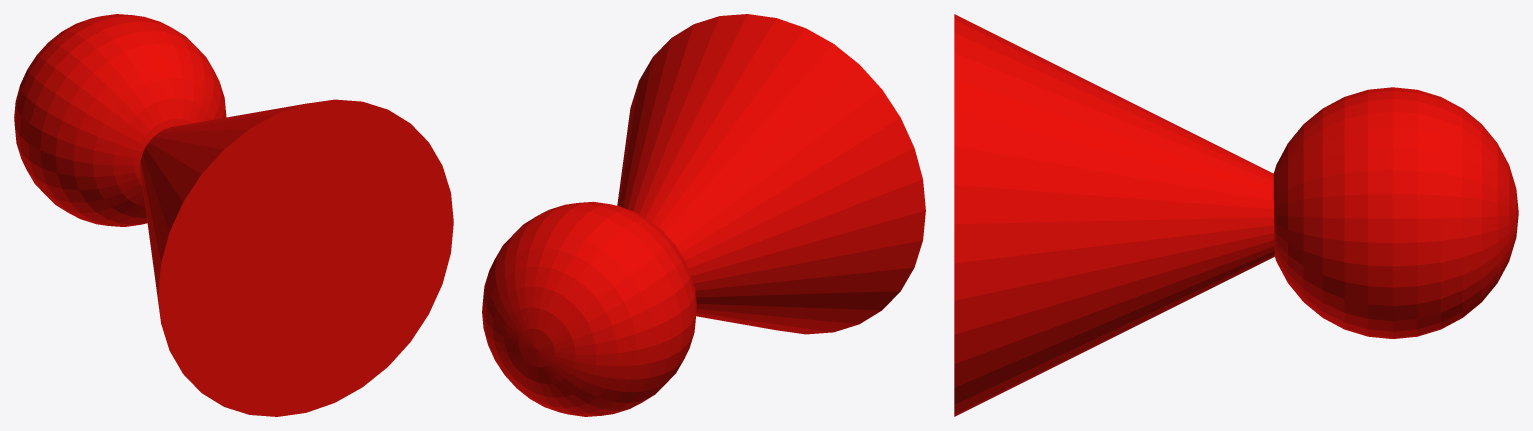
The model's file is Beam01.fbx.
3 views of the same model, side by side, from view 1: azimuth 30°, elevation 25°; view 2: azimuth 150°, elevation 25°; view 3: azimuth 270°, elevation 25° (orthographic). The views are drawn at different scales.
Visible parts, largest first — view 1: 球; view 2: 球; view 3: 球.
Boxes of the visible parts, box(x1,y1,x2,y2) form: 球: box(14, 14, 453, 416); 球: box(482, 14, 925, 416); 球: box(954, 14, 1518, 416).
Size of the model in its own units: 3.2 by 3.2 by 4.48.
